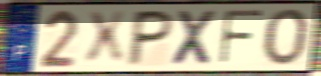2: (40, 8, 81, 70)
F: (217, 9, 266, 68)
O: (262, 7, 312, 68)
P: (123, 9, 177, 68)
X: (169, 9, 220, 68), (84, 9, 129, 68)
